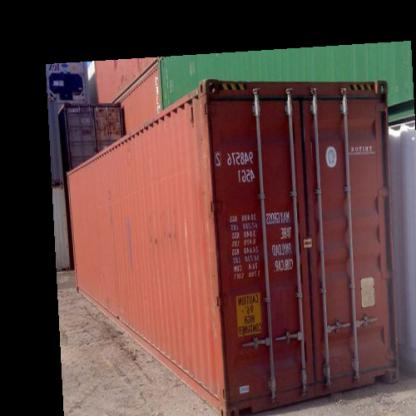Damage: (272, 287, 297, 336), (98, 184, 120, 236), (122, 215, 140, 271), (145, 224, 180, 252)
